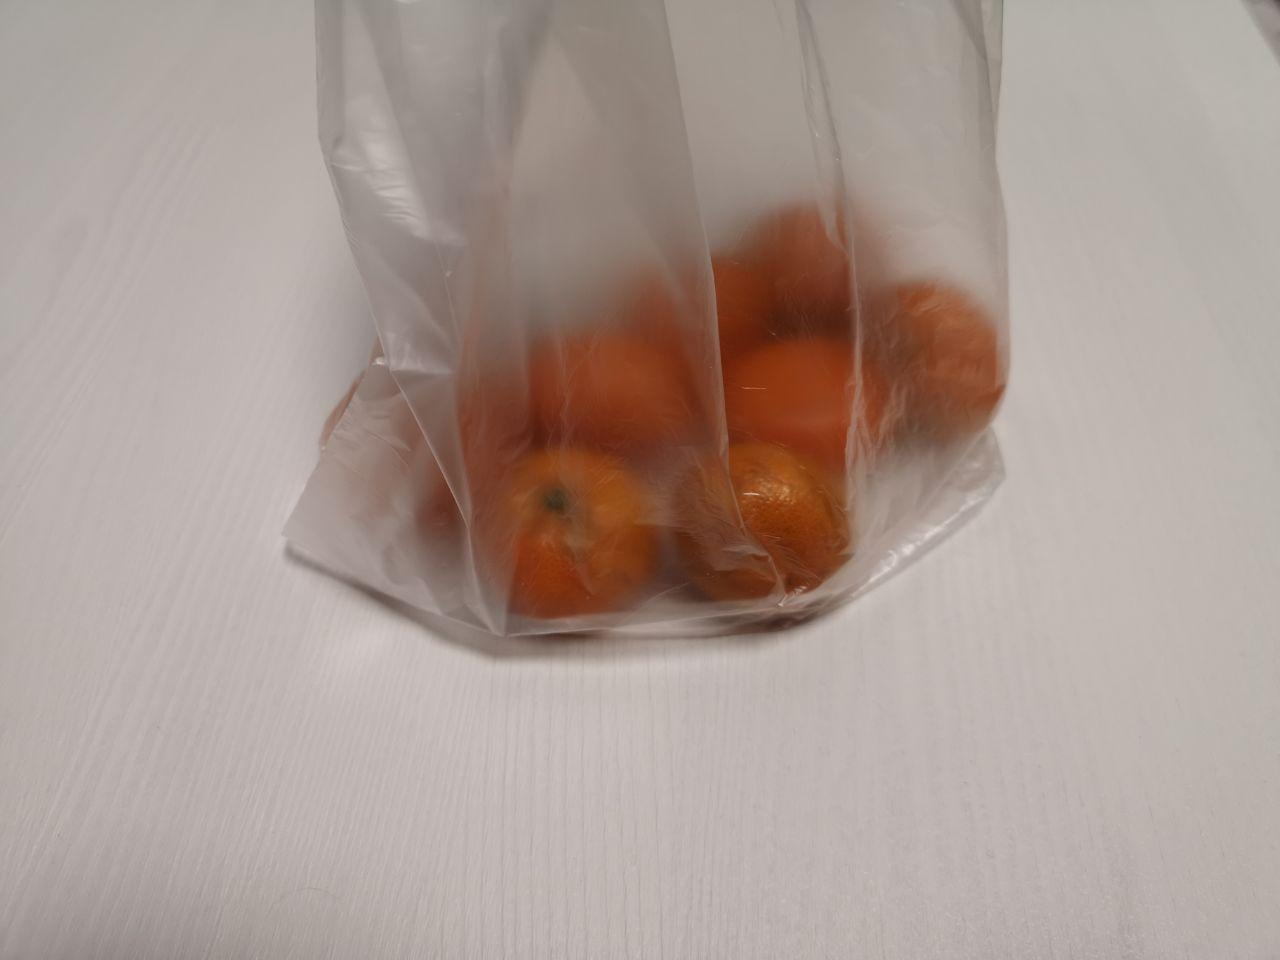clementin: (241, 195, 1058, 686)
